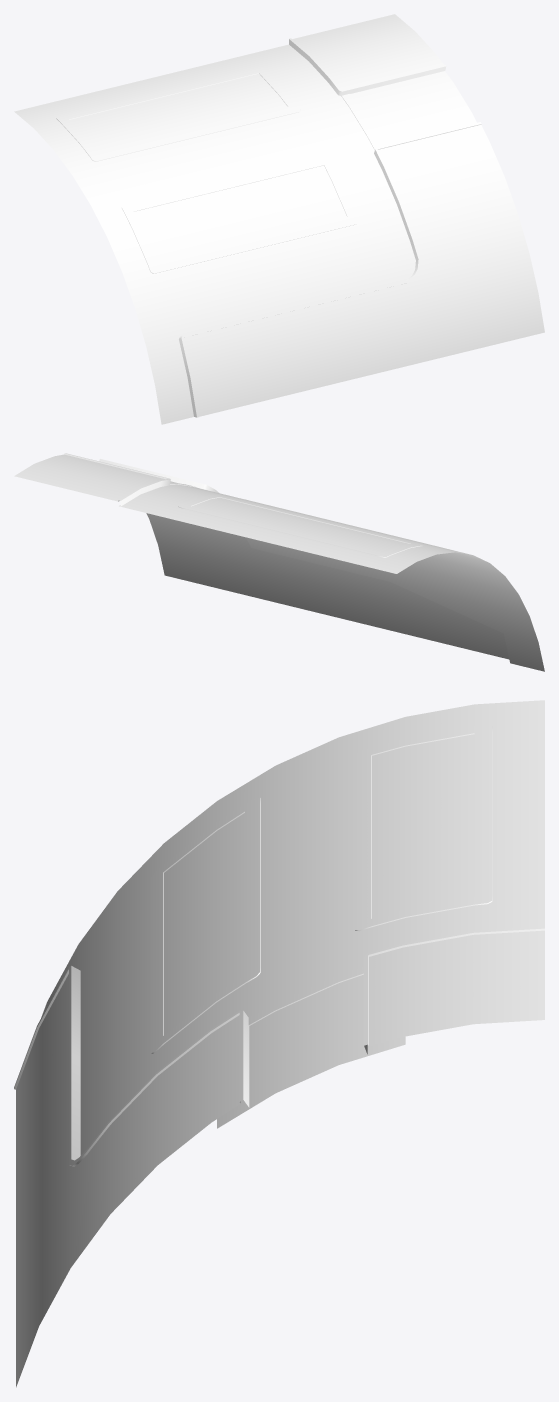
The model's file is grd_Ex_n_se_0.dae.
3 views of the same model, one above another, from view 1: azimuth 30°, elevation 25°; view 2: azimuth 150°, elevation 25°; view 3: azimuth 270°, elevation 25° (orthographic). The views are drawn at different scales.
Visible parts, largest first — view 1: grass_0_0, road3_2_0, renga11_1_0, road3_3_0; view 2: grass_0_0, road3_2_0, renga11_1_0, road3_3_0; view 3: grass_0_0, road3_2_0, renga11_1_0.
Part boxes in pixels (x1,y1,x2,y2): grass_0_0: (69, 14, 544, 416); road3_2_0: (14, 44, 476, 346); renga11_1_0: (56, 38, 481, 417); road3_3_0: (146, 339, 193, 424); grass_0_0: (14, 454, 509, 659); road3_2_0: (119, 481, 529, 615); renga11_1_0: (64, 453, 447, 557); road3_3_0: (392, 582, 544, 671); grass_0_0: (16, 734, 544, 1387); road3_2_0: (78, 700, 544, 1155); renga11_1_0: (14, 724, 544, 1166).
Bounding box in the file's own units: 704 × 372 × 482.
Materials: 4 (1 with a texture image).
